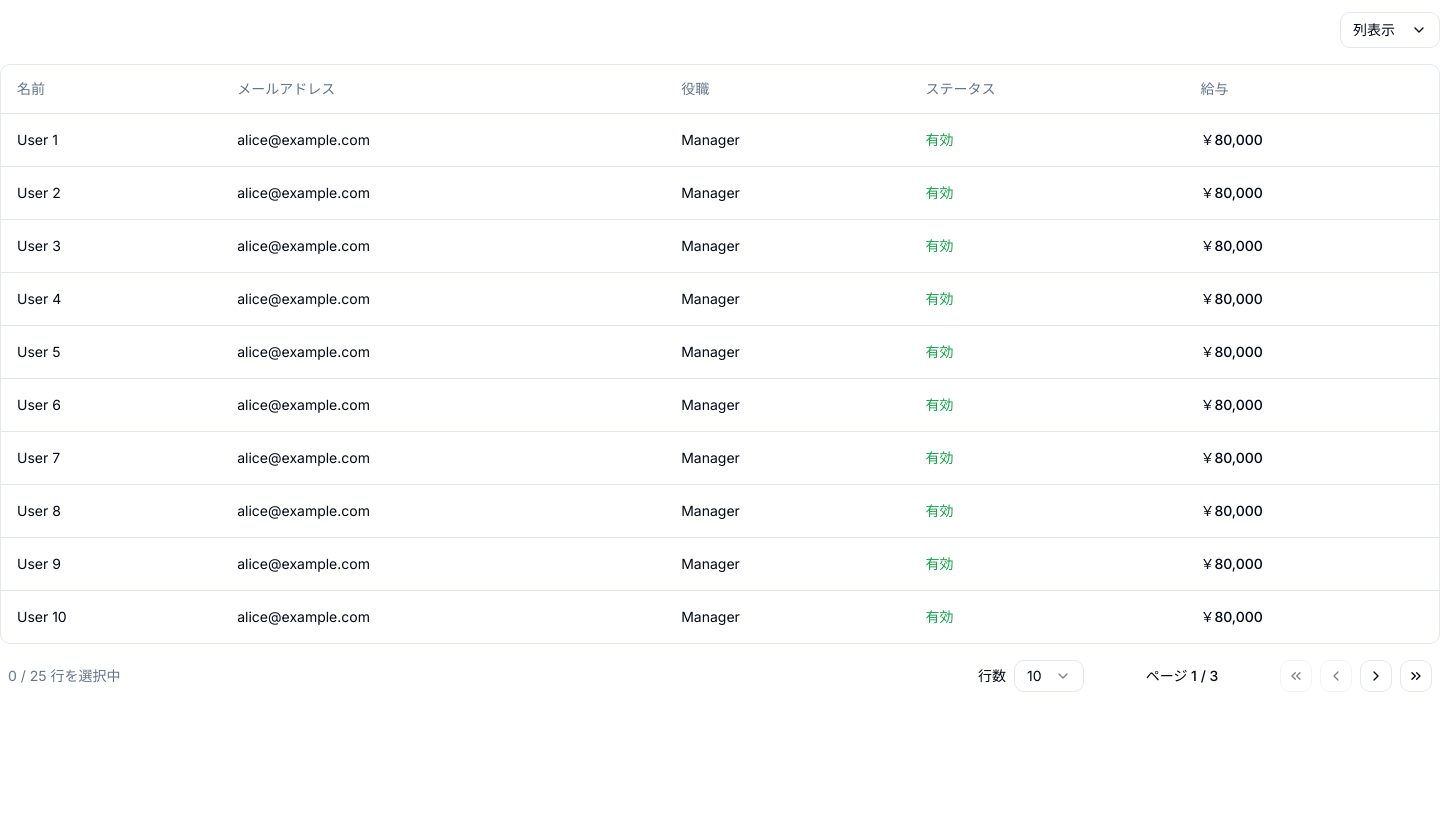
Test: DataTable › Pagination › page navigation buttons work
Expected: the text "User 1" is shown, [1,113,221,166]
// Click next page button
Click the 3rd button named "次のページに移動". click: (1376, 676)
box: [1360,660,1392,692]
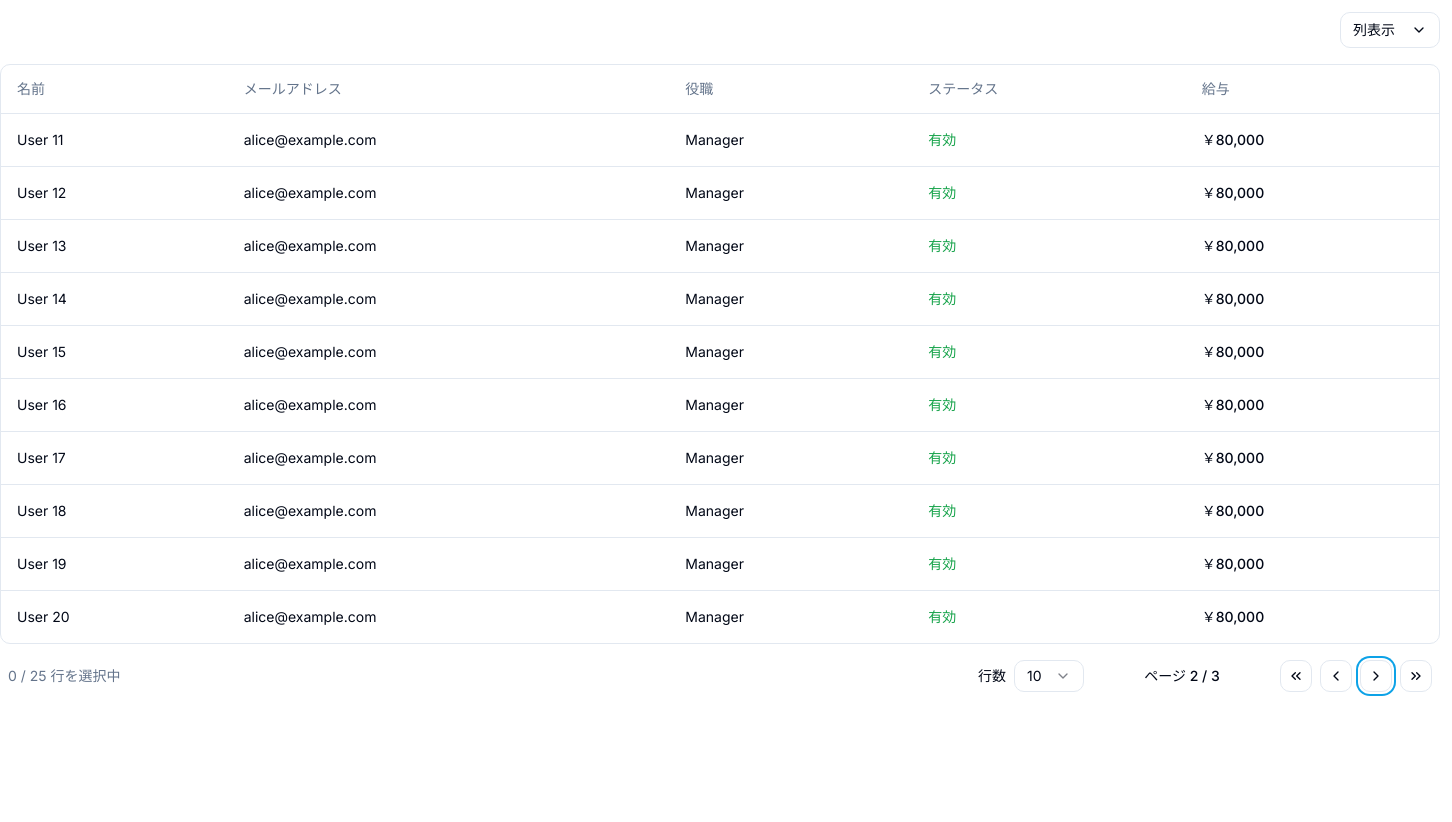
Expected: the text "User 11" is shown, [1,113,228,166]
